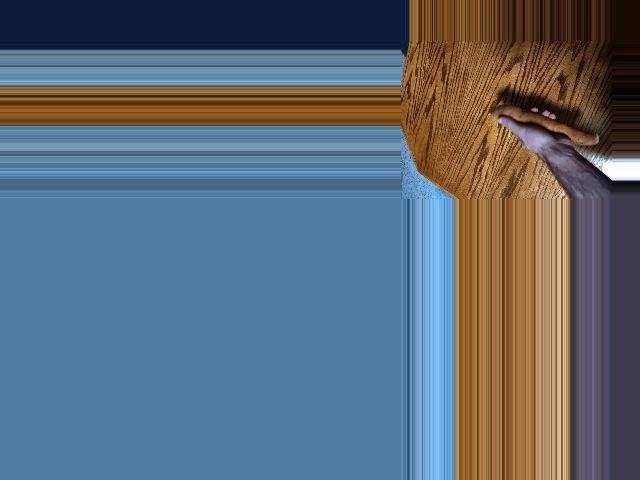sweet_potato: (493, 100, 600, 149)
